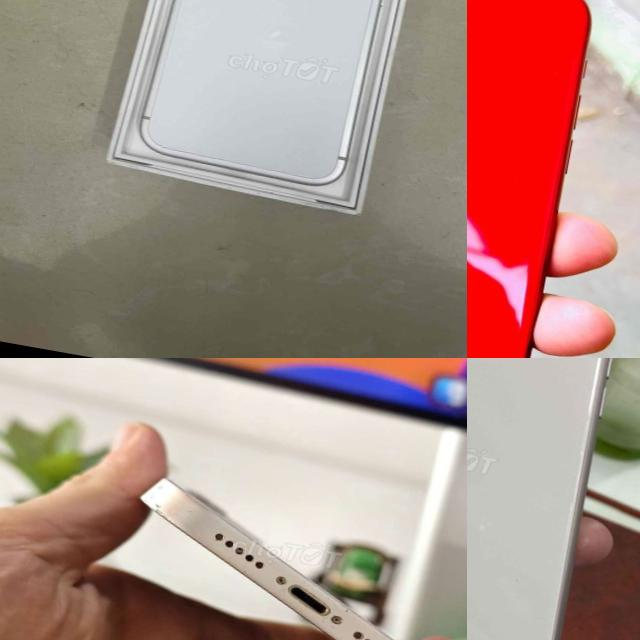gen_11: (467, 0, 612, 358), (467, 358, 640, 640)
gen_12_13: (116, 474, 467, 640)
gen_17: (122, 0, 418, 212)
